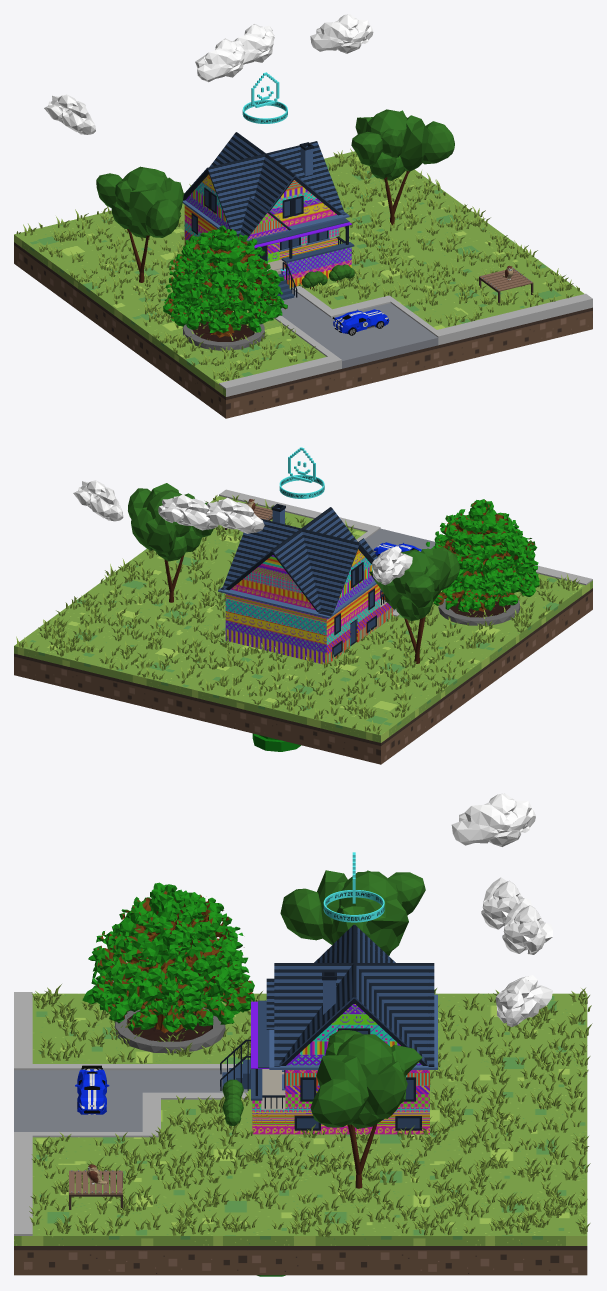
3 renders of one model, top to bottom at view 1: azimuth 30°, elevation 25°; view 2: azimuth 150°, elevation 25°; view 3: azimuth 270°, elevation 25°, orthographic. The views are drawn at different scales.
Visible parts, largest first — view 1: Cube.006, Cube.676, Circle.012_Grass_0.192, OBJRANDOM_CEIBA, Cube.007, tree, tree.001, VEHICLES_RACING_CAR, TYPE_PREMIUM, Cube.009; view 2: Cube.006, Cube.676, Circle.012_Grass_0.192, OBJRANDOM_CEIBA, Cube.007, tree.001, tree, TYPE_PREMIUM, UNDERGROUND_PIPES; view 3: Cube.006, Circle.012_Grass_0.192, Cube.676, OBJRANDOM_CEIBA, tree, Cube.007, tree.001, VEHICLES_RACING_CAR, Cube.009, TYPE_PREMIUM.
Part boxes in pixels (bbox=[...]): Cube.006: bbox=[14, 151, 592, 418]; Cube.676: bbox=[182, 132, 354, 299]; Circle.012_Grass_0.192: bbox=[16, 148, 579, 381]; OBJRANDOM_CEIBA: bbox=[163, 225, 287, 350]; Cube.007: bbox=[44, 14, 373, 134]; tree: bbox=[351, 109, 454, 225]; tree.001: bbox=[96, 166, 183, 282]; VEHICLES_RACING_CAR: bbox=[332, 309, 389, 335]; TYPE_PREMIUM: bbox=[242, 72, 287, 123]; Cube.009: bbox=[479, 268, 533, 302]; Cube.006: bbox=[14, 489, 592, 764]; Cube.676: bbox=[218, 503, 392, 664]; Circle.012_Grass_0.192: bbox=[16, 495, 579, 734]; OBJRANDOM_CEIBA: bbox=[426, 499, 539, 625]; Cube.007: bbox=[73, 480, 412, 585]; tree.001: bbox=[369, 547, 460, 663]; tree: bbox=[128, 483, 213, 602]; TYPE_PREMIUM: bbox=[279, 447, 324, 498]; UNDERGROUND_PIPES: bbox=[252, 733, 300, 751]; Cube.006: bbox=[14, 992, 587, 1275]; Circle.012_Grass_0.192: bbox=[29, 984, 592, 1237]; Cube.676: bbox=[220, 924, 437, 1134]; OBJRANDOM_CEIBA: bbox=[82, 882, 255, 1053]; tree: bbox=[310, 1030, 422, 1188]; Cube.007: bbox=[451, 793, 552, 1026]; tree.001: bbox=[280, 870, 425, 955]; VEHICLES_RACING_CAR: bbox=[75, 1065, 109, 1114]; Cube.009: bbox=[69, 1170, 122, 1209]; TYPE_PREMIUM: bbox=[323, 852, 384, 922].
Size of the model in its own units: 4071 by 2884 by 4040.
40 materials, 8 textured.
